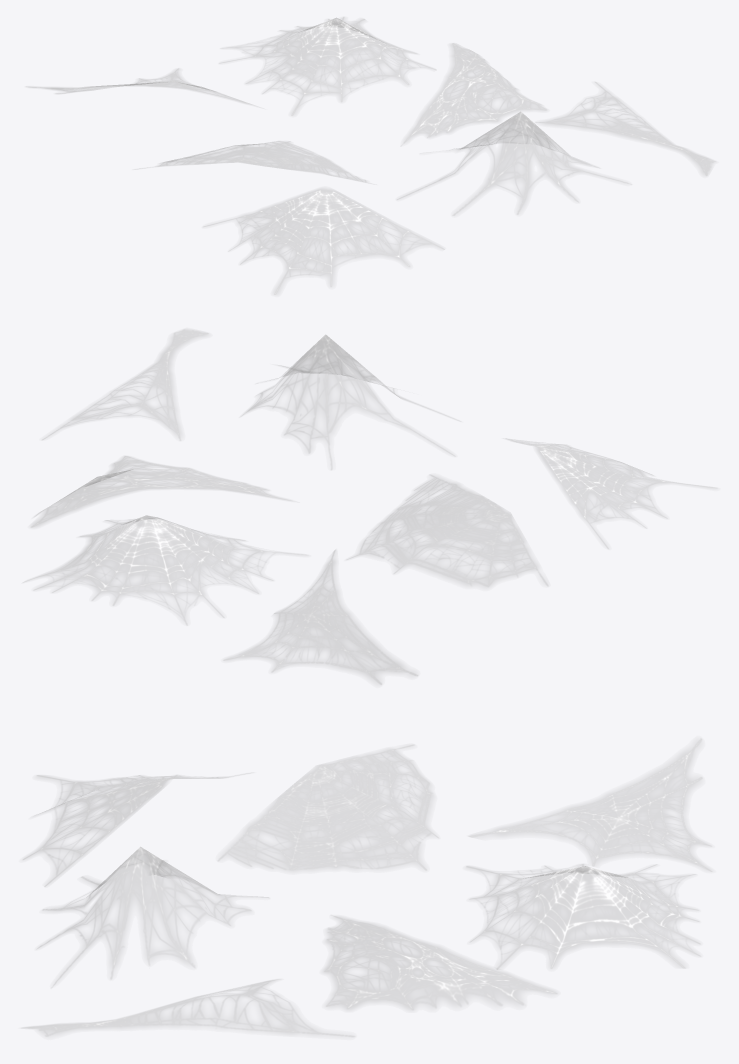
The model's file is cobwebs.glb.
The picture shows the model from 3 angles, top to bottom: view 1: azimuth 30°, elevation 25°; view 2: azimuth 150°, elevation 25°; view 3: azimuth 270°, elevation 25°; orthographic projection. The views are drawn at different scales.
Parts seen in each view (by area): view 1: cobweb.003, cobweb.006, cobweb.005, cobweb.001, cobweb.002, cobweb.004, cobweb.007; view 2: cobweb.006, cobweb.002, cobweb.007, cobweb.001, cobweb.003, cobweb.005, cobweb.004; view 3: cobweb.002, cobweb.006, cobweb.005, cobweb.007, cobweb.001, cobweb.003, cobweb.004.
Part boxes in pixels (x1,y1,x2,y2): cobweb.003: (203,188,444,294); cobweb.006: (219,17,435,115); cobweb.005: (403,43,546,143); cobweb.001: (397,111,628,215); cobweb.002: (140,141,366,182); cobweb.004: (536,82,715,175); cobweb.007: (29,68,254,105); cobweb.006: (23,515,307,624); cobweb.002: (347,475,548,587); cobweb.007: (223,550,417,684); cobweb.001: (242,334,458,469); cobweb.003: (505,438,716,548); cobweb.005: (31,456,291,527); cobweb.004: (42,329,208,440); cobweb.002: (218,745,438,870); cobweb.006: (466,864,700,969); cobweb.005: (323,916,557,1010); cobweb.007: (469,739,711,871); cobweb.001: (37,846,268,985); cobweb.003: (23,773,248,886); cobweb.004: (23,979,354,1036).
Size of the model in its own units: 4.04 by 0.7605 by 3.97.
Materials: 1 (1 with a texture image).
